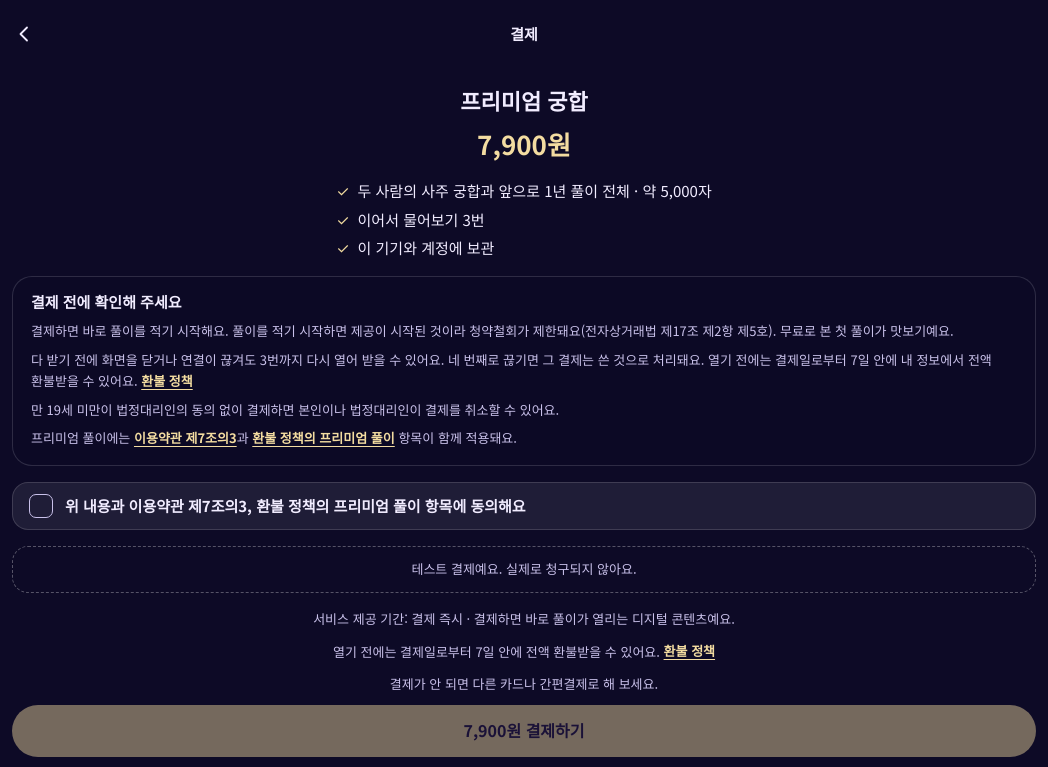
CheckoutView › has a premium buyer agree to the premium clauses (이용약관 제7조의3, the refund policy's premium part), linked, in the one check before the one pay button (review 2026
Check: the text "7,900원" is shown, box x1=477 y1=125 x2=571 y2=162
Check: the number of buttons "7,900원 결제하기" is 1, box x1=12 y1=704 x2=1036 y2=756
Click the checkbox labelled "위 내용과 이용약관 제7조의3, 환불 정책의 프리미엄 풀이 항목에 동의해요" at (524,506), box x1=12 y1=482 x2=1036 y2=530
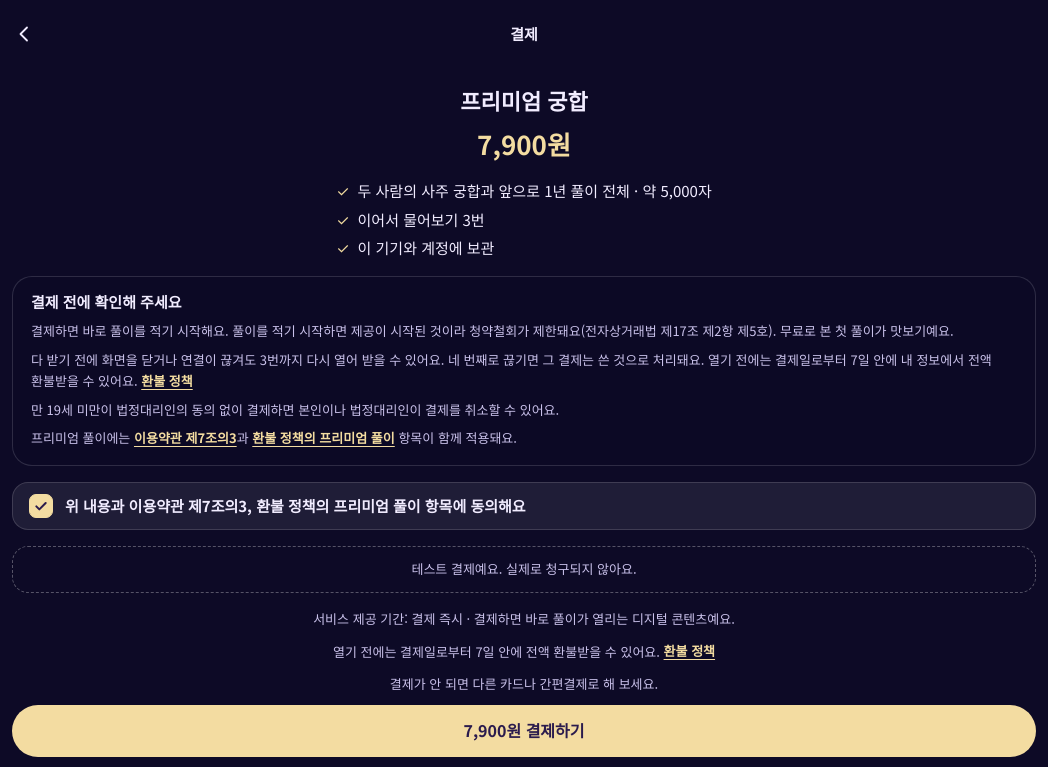
Check: the button "7,900원 결제하기" is enabled, box x1=12 y1=704 x2=1036 y2=756
